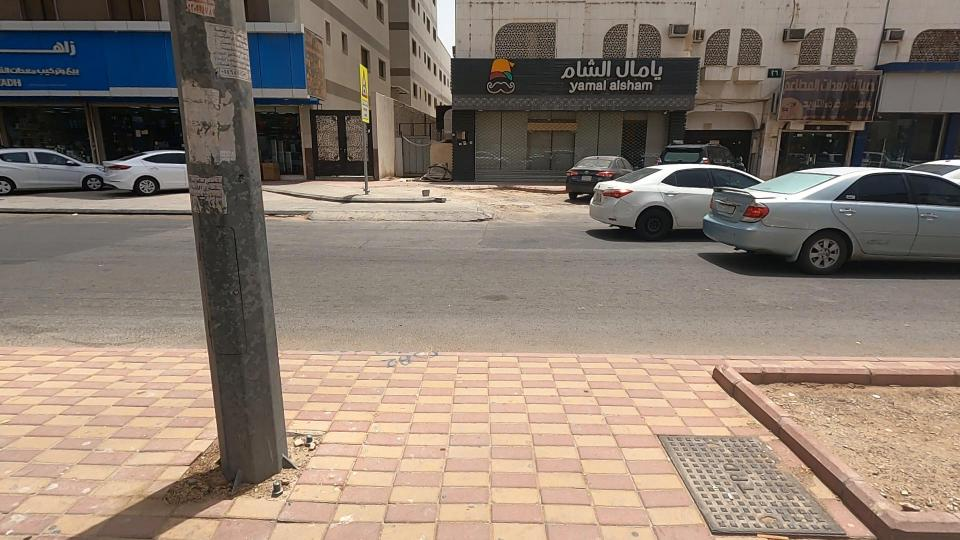BAD_BILLBOARD: (699, 32, 950, 165)
